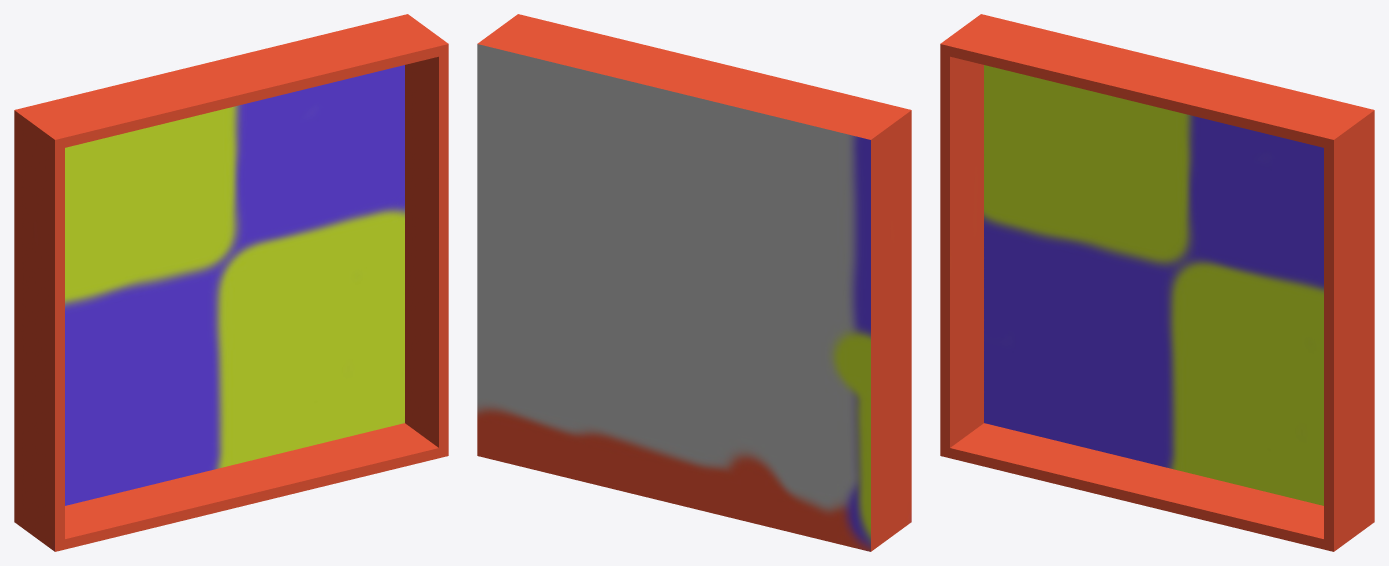
File: room2.gltf
3 views of the same model, side by side, from view 1: azimuth 30°, elevation 25°; view 2: azimuth 150°, elevation 25°; view 3: azimuth 330°, elevation 25° (orthographic).
Parts seen in each view (by area): view 1: Room2; view 2: Room2; view 3: Room2.
Part boxes in pixels (x1,y1,x2,y2): Room2: [14, 14, 448, 551]; Room2: [477, 14, 911, 551]; Room2: [940, 14, 1374, 551].
Size of the model in its own units: 20 by 20 by 3.6.
Materials: 1 (1 with a texture image).
